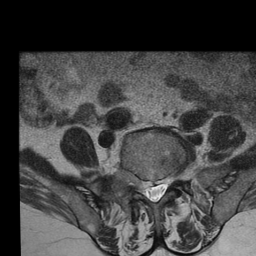CCS_normal: (149, 173, 158, 209)
LFS_normal: (168, 165, 177, 191)
LLS_normal: (158, 172, 167, 201)
RFS_normal: (132, 165, 141, 198)
RLS_normal: (141, 171, 149, 203)
